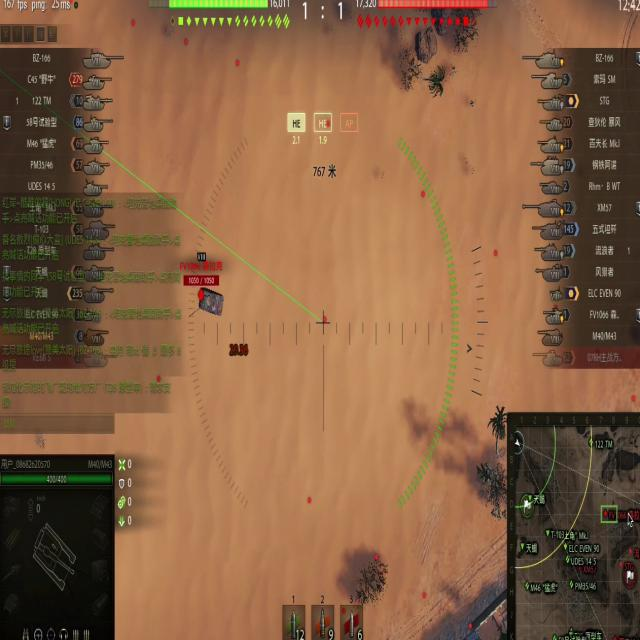tank: (185, 272, 230, 321)
